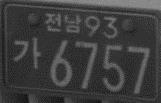3: (102, 15, 118, 39)
5: (101, 44, 125, 93)
6: (49, 39, 72, 89)
7: (74, 40, 99, 91), (126, 45, 151, 94)
9: (84, 15, 100, 37)
가: (14, 35, 42, 71)
전남_O: (44, 11, 82, 35)
